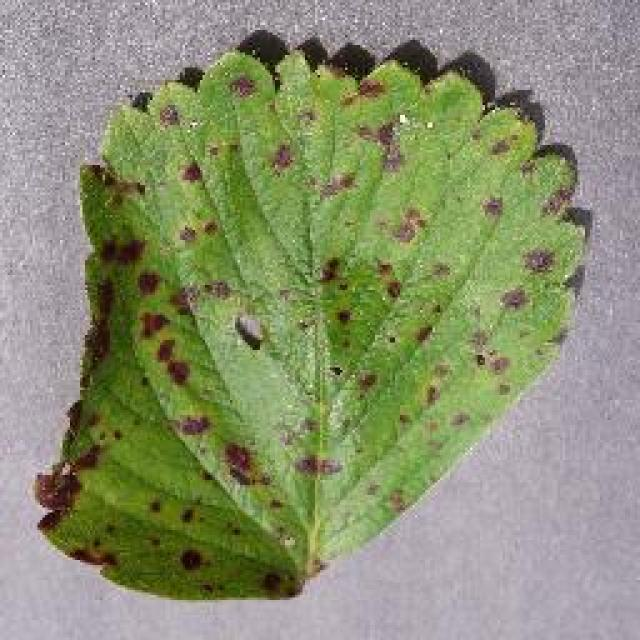Strawberry___Leaf_scorch: (18, 10, 602, 622)
